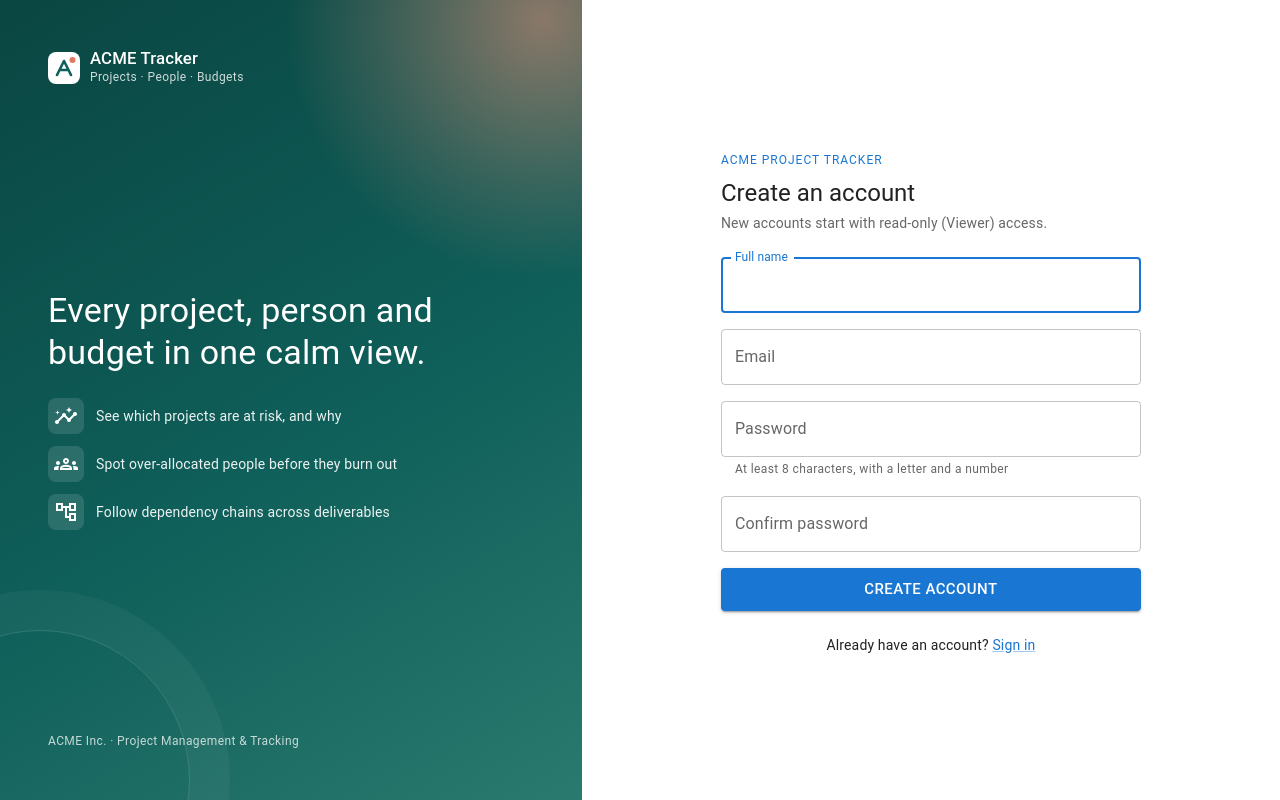
rejects password lettersonly
The width and height of the screenshot is (1280, 800).
Type "Nina New" into the field labelled "Full name". click: (931, 285)
box: [721, 257, 1141, 313]
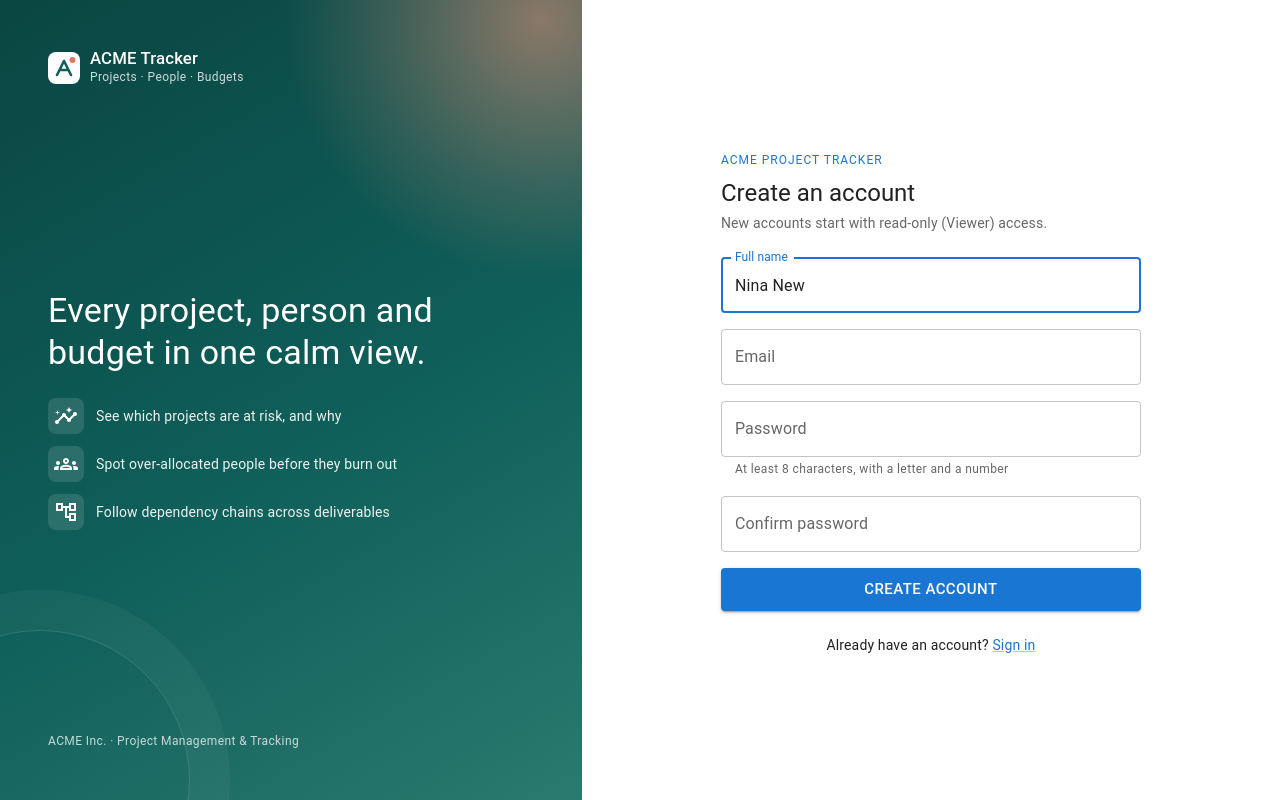
Type "nina@acme.com" into the field labelled "Email". click: (931, 357)
box: [721, 329, 1141, 385]
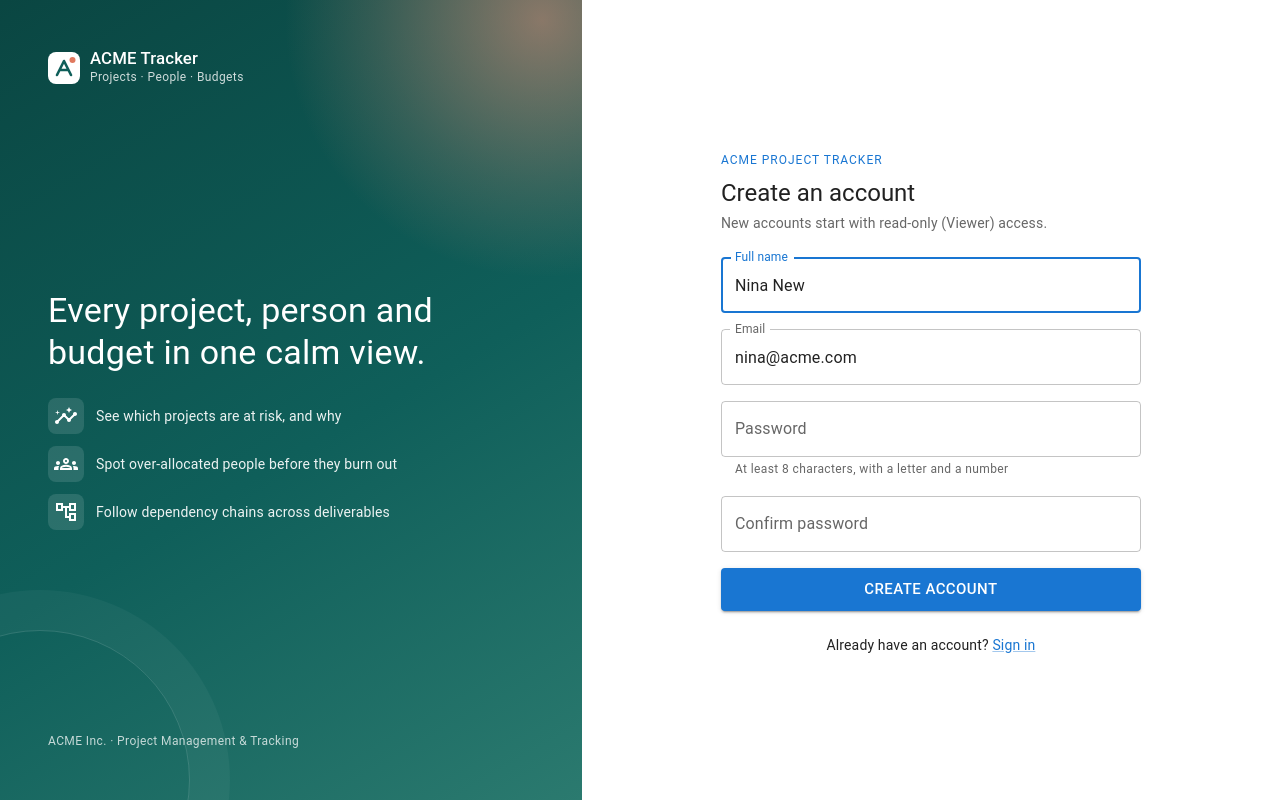
Type "lettersonly" into the password field labelled "Password". click: (931, 429)
box: [721, 401, 1141, 457]
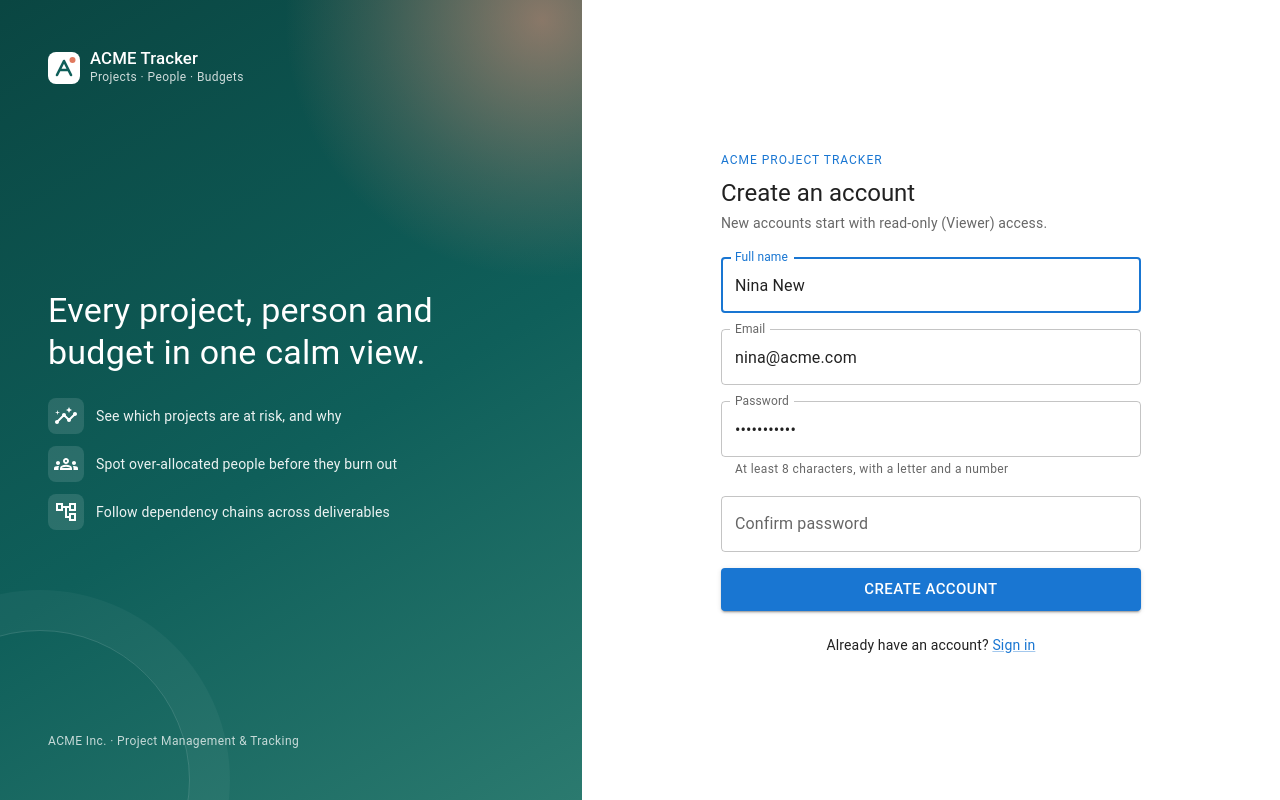
Type "lettersonly" into the password field labelled "Confirm password". click: (931, 524)
box: [721, 496, 1141, 552]
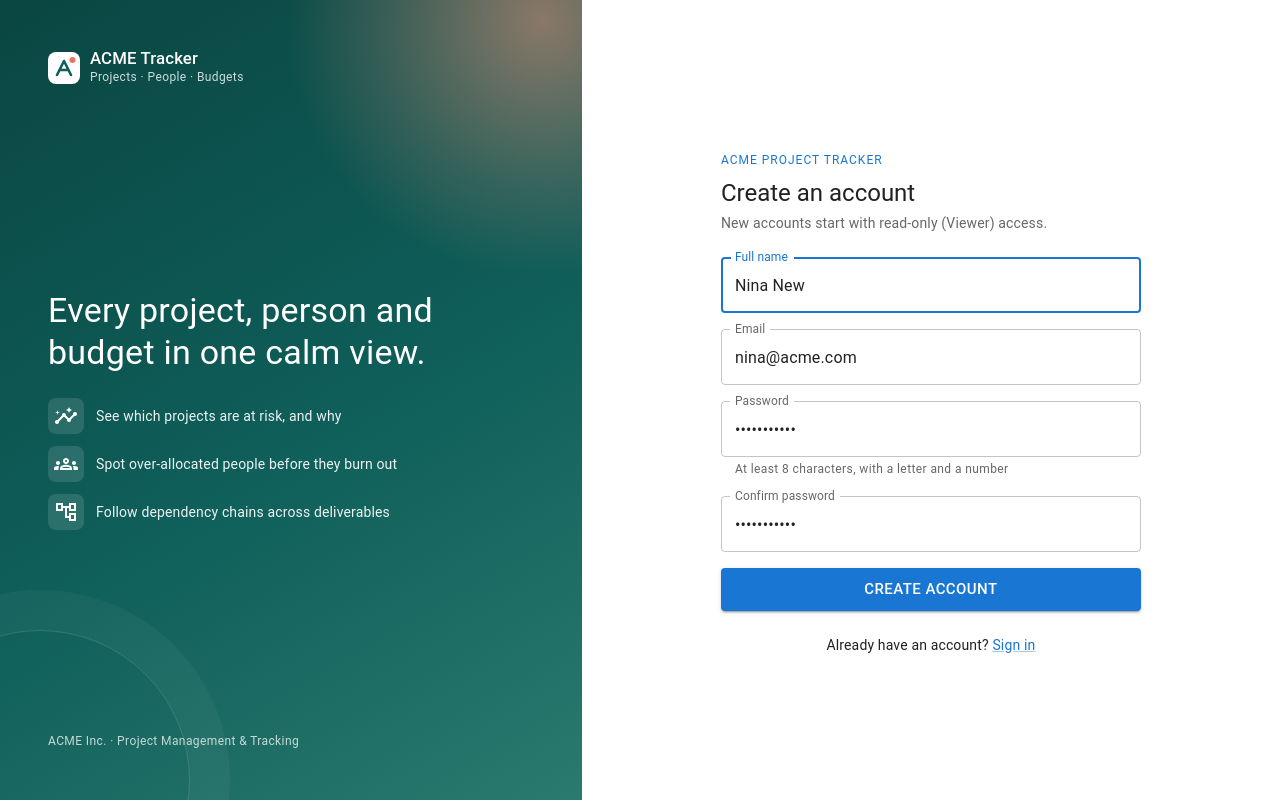
Click the button "Create account". click: (931, 589)
box: [721, 568, 1141, 611]
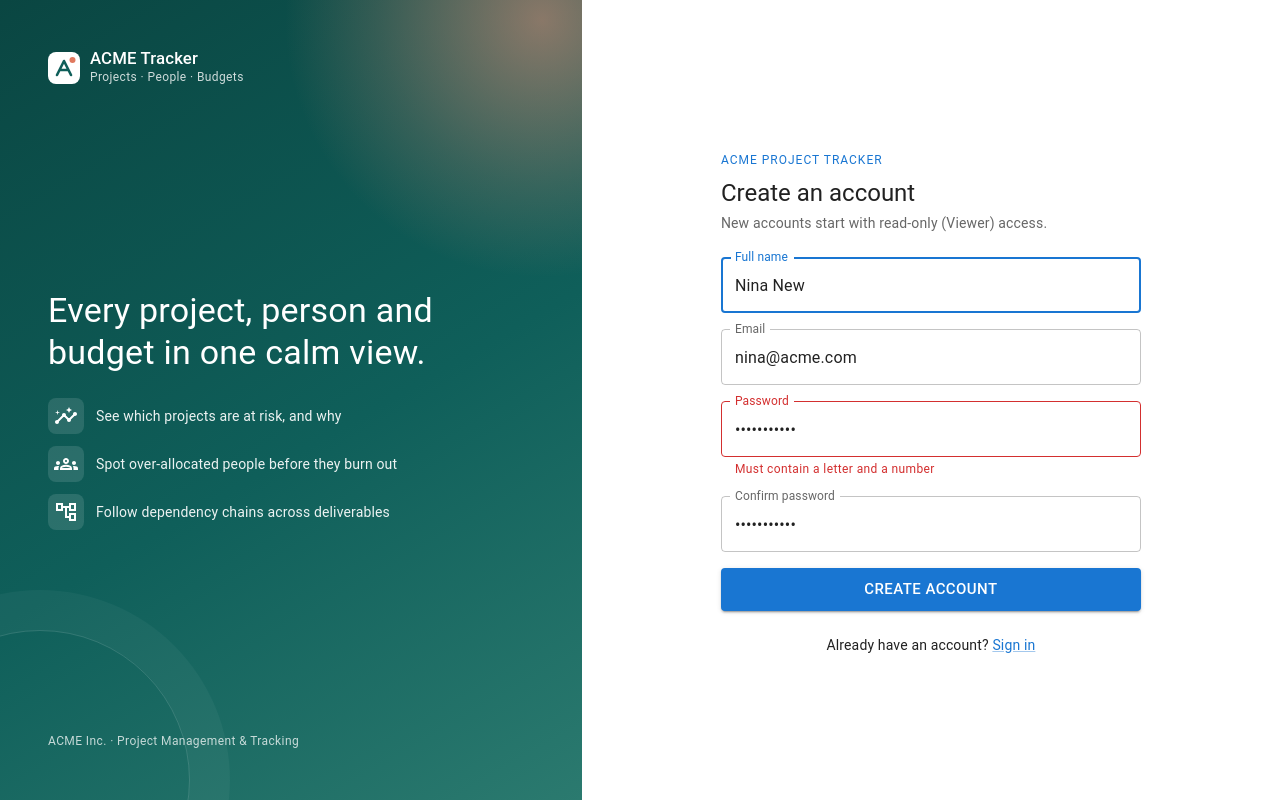
Check: the text "Must contain a letter and a number" is shown, box [735, 462, 935, 476]
